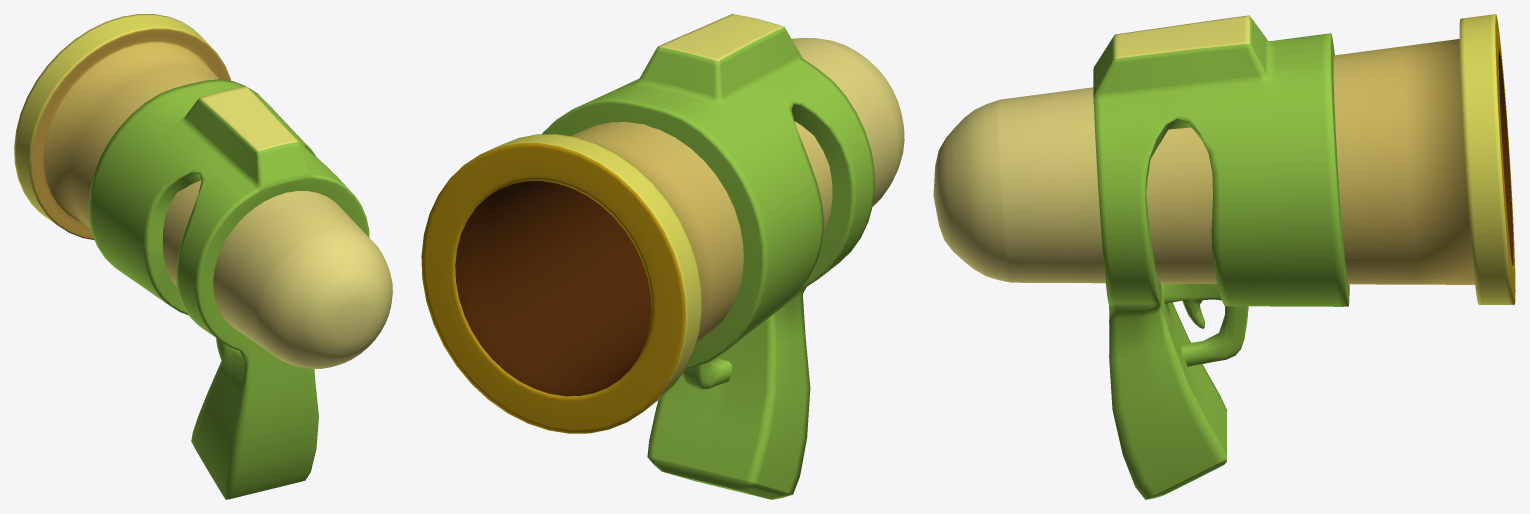
File: qiang.gltf
3 views of the same model, side by side, from view 1: azimuth 30°, elevation 25°; view 2: azimuth 150°, elevation 25°; view 3: azimuth 270°, elevation 25° (orthographic). The views are drawn at different scales.
Visible parts, largest first — view 1: qiang; view 2: qiang; view 3: qiang.
Boxes of the visible parts, left/top/right/bottom form: qiang: left=14, top=14, right=392, bottom=499; qiang: left=421, top=14, right=904, bottom=499; qiang: left=933, top=14, right=1515, bottom=499.
Bounding box in the file's own units: 47.78 × 81.4 × 95.31.
1 material, 1 textured.
